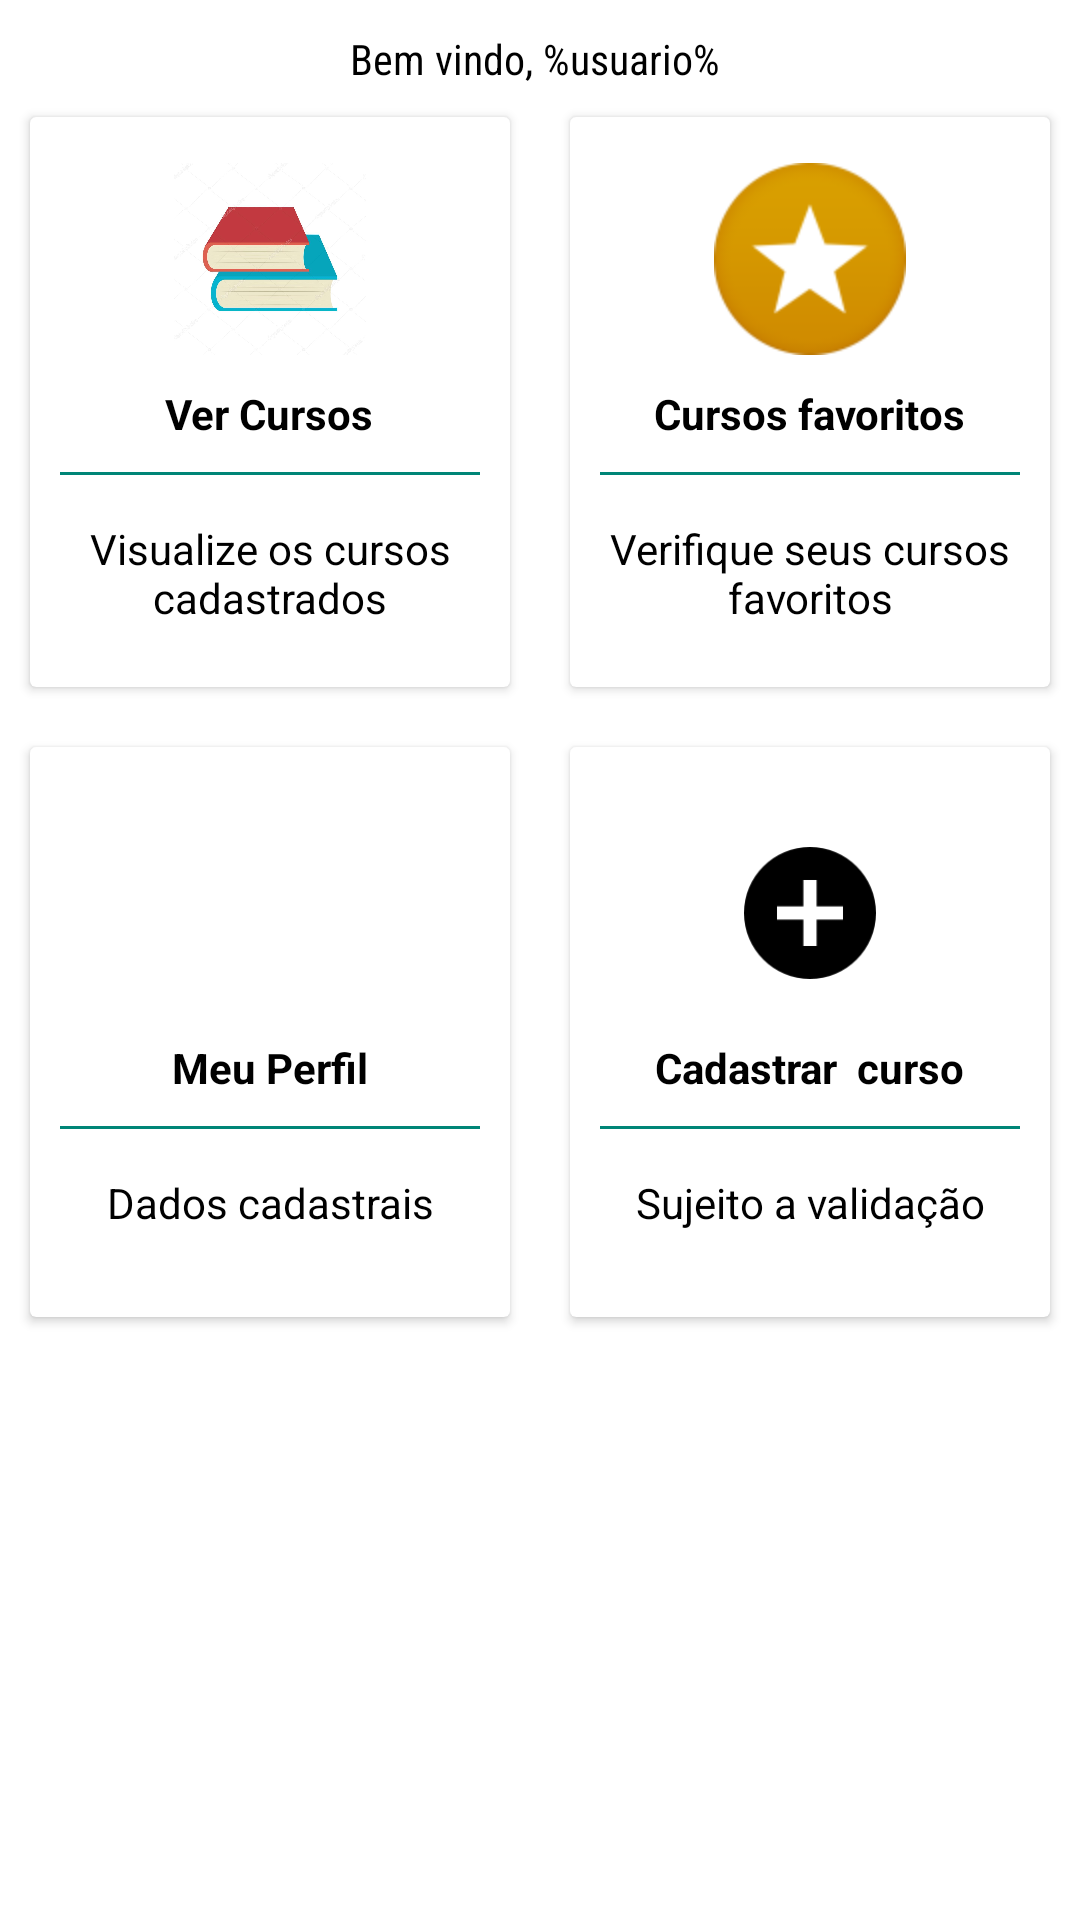

Screen size 1080*1920. Icon name, then its box in pixels as (x1, y1, x2, y2):
livro: (203, 207, 338, 311)
mais: (744, 847, 876, 979)
